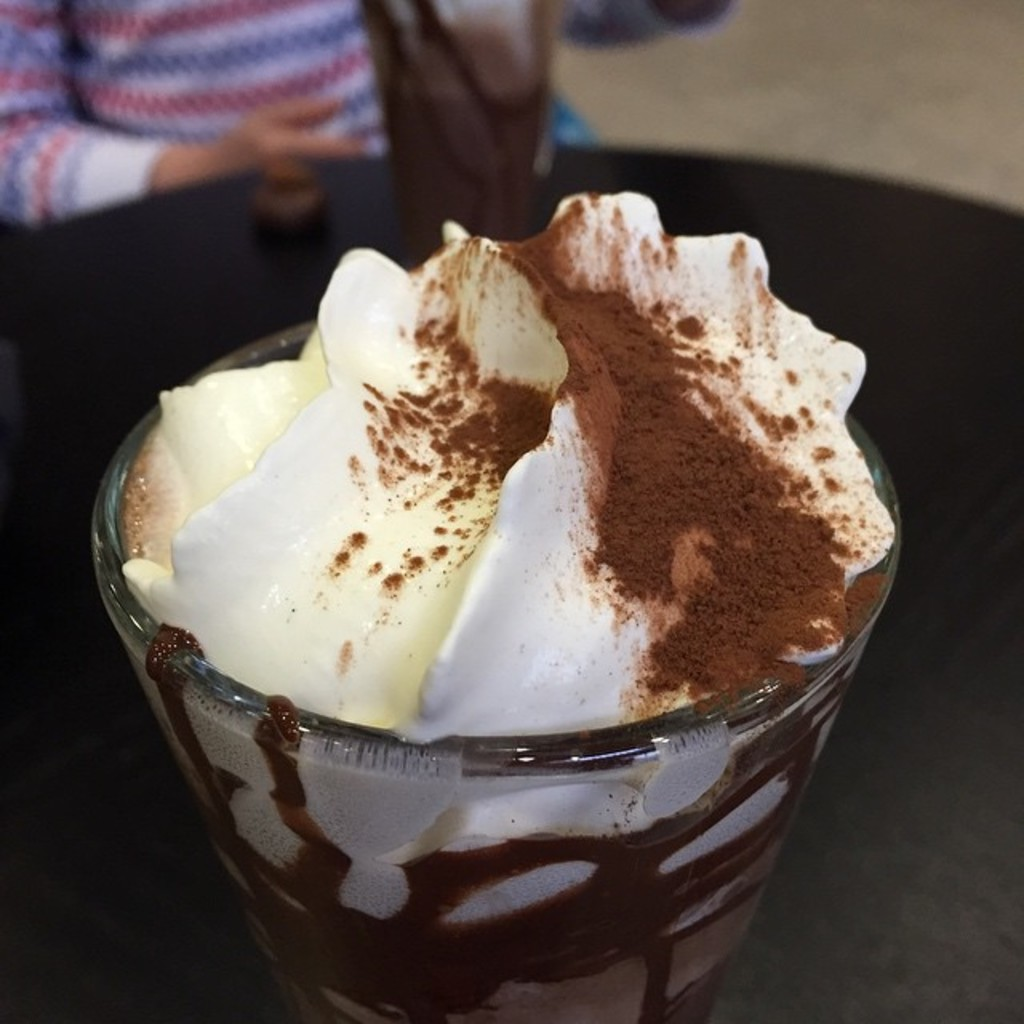person: (1, 0, 568, 248)
